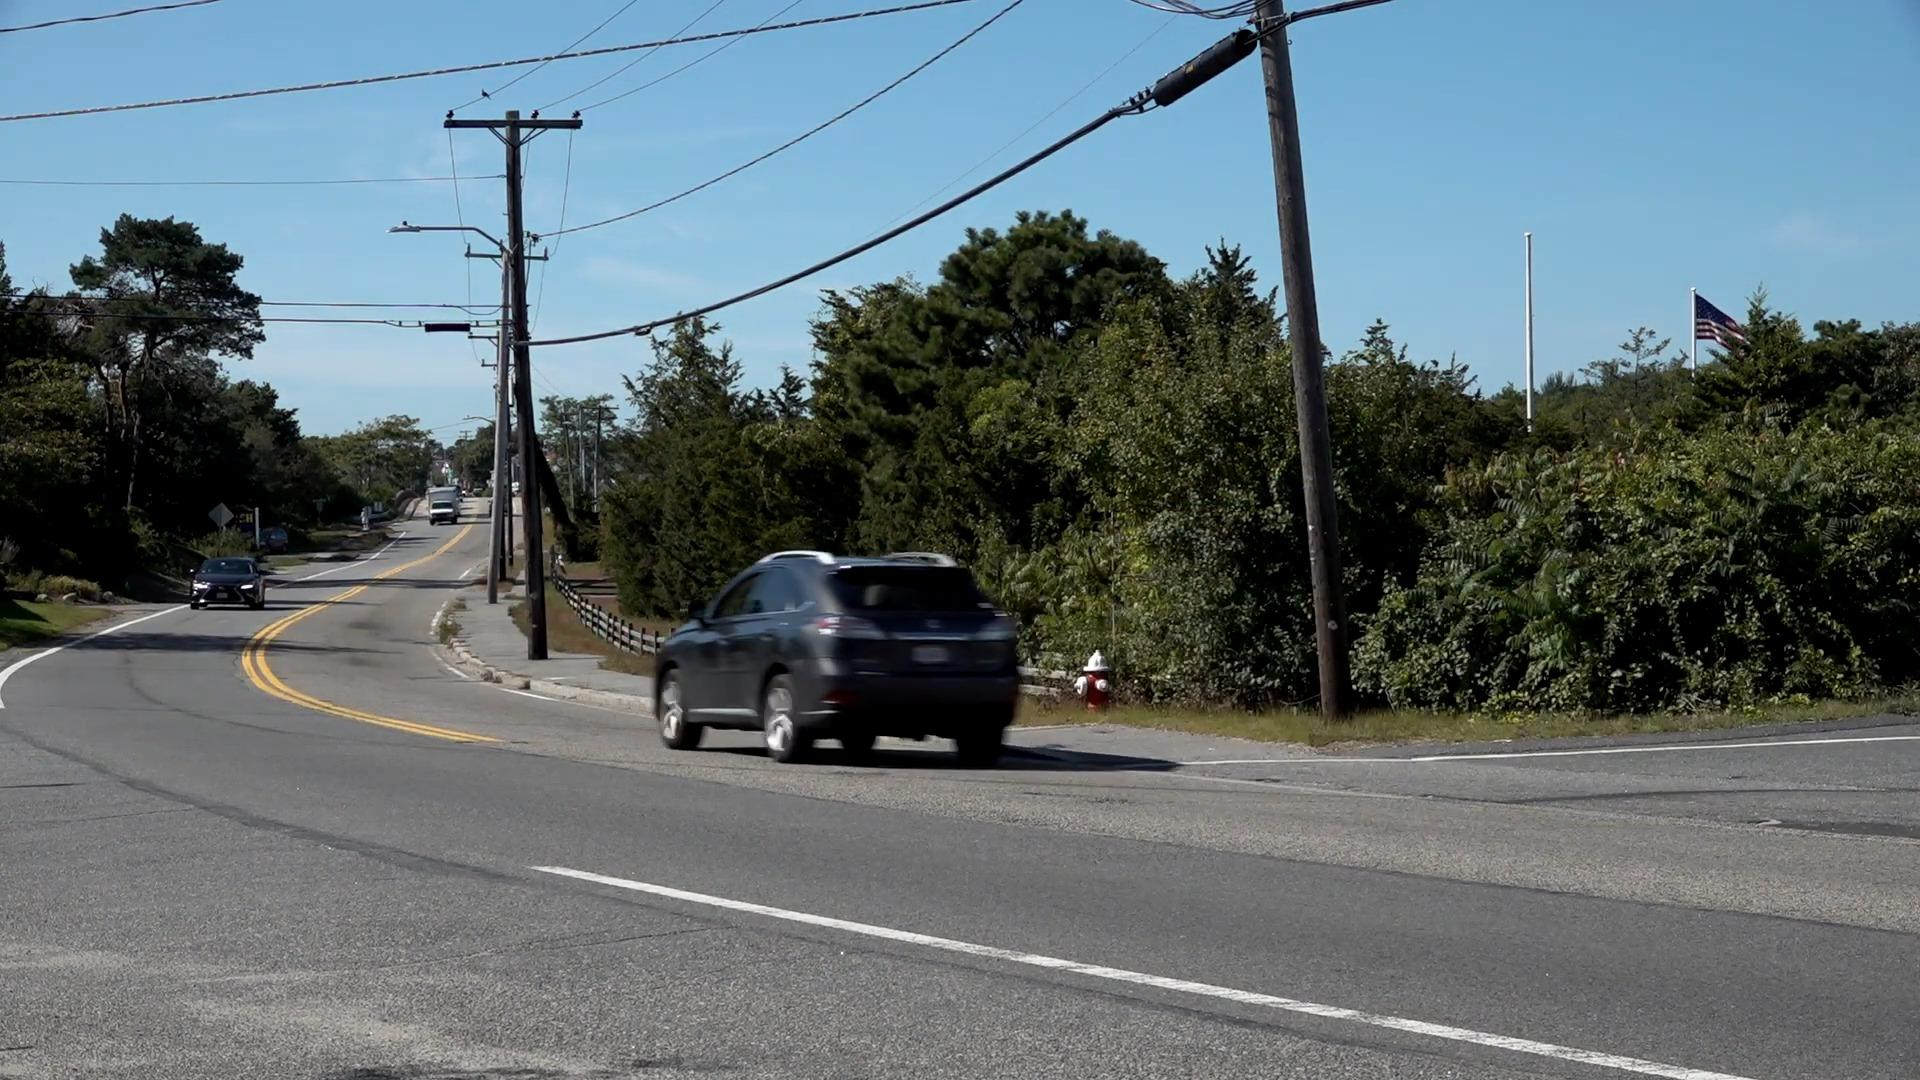sedans: (187, 556, 269, 611)
suv: (644, 550, 1024, 764)
